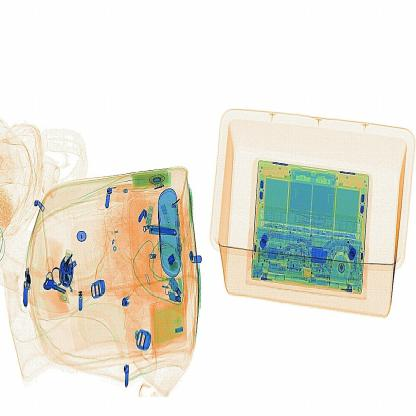wrench: (163, 249, 180, 278)
